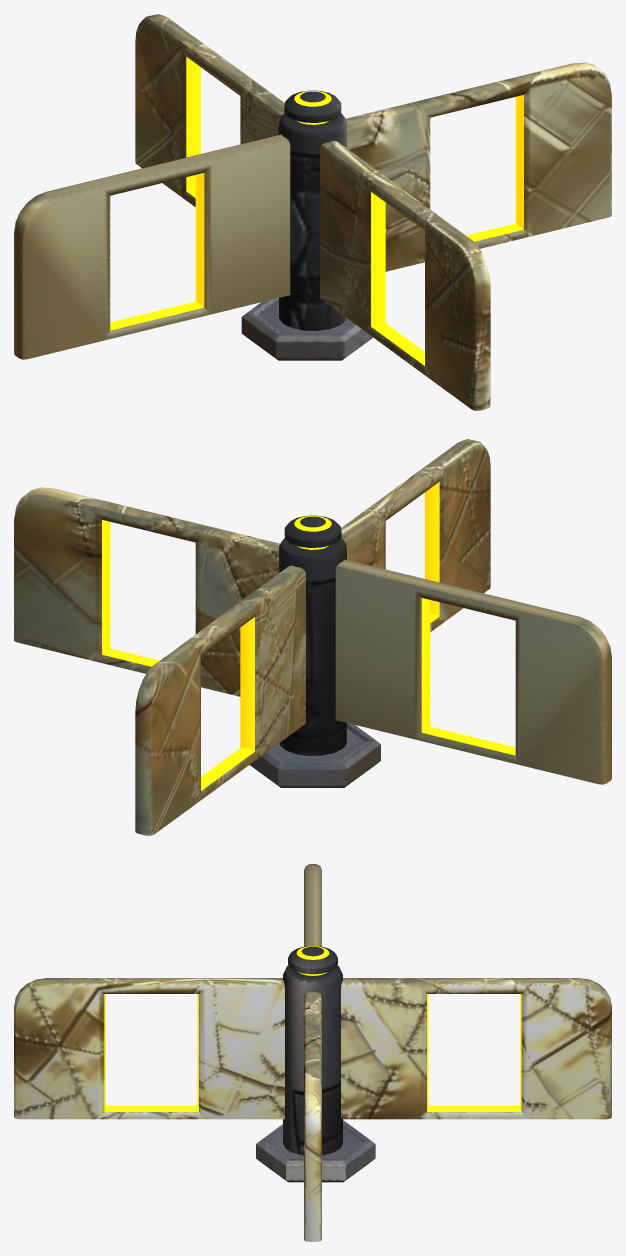
File: floor.01.machine5.gltf
3 views of the same model, one above another, from view 1: azimuth 30°, elevation 25°; view 2: azimuth 150°, elevation 25°; view 3: azimuth 270°, elevation 25° (orthographic). The views are drawn at different scales.
Parts seen in each view (by area): view 1: floor.01.machine.07; view 2: floor.01.machine.07; view 3: floor.01.machine.07.
Part boxes in pixels (left/top/right/bottom): floor.01.machine.07: left=14, top=14, right=611, bottom=410; floor.01.machine.07: left=14, top=439, right=611, bottom=835; floor.01.machine.07: left=14, top=864, right=611, bottom=1241.
Size of what is drawn, in the model's own units: 10 by 3.91 by 10.
Materials: 2 (1 with a texture image).
